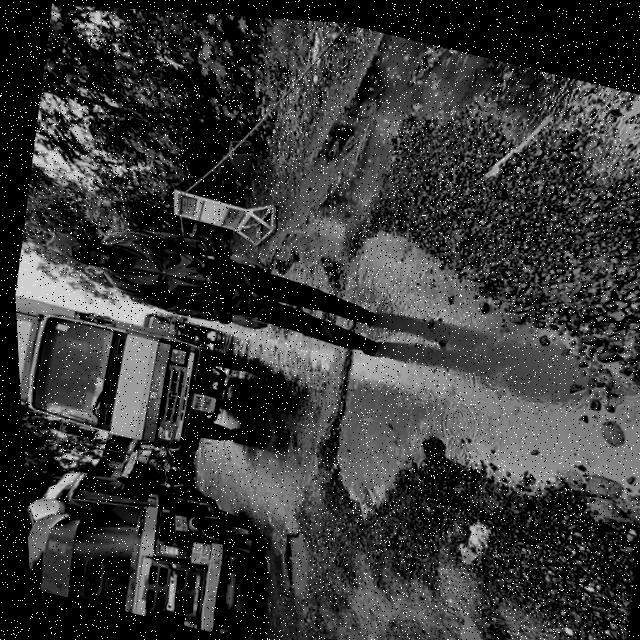pothole: (294, 200, 640, 572), (255, 518, 326, 606), (418, 600, 522, 640)
